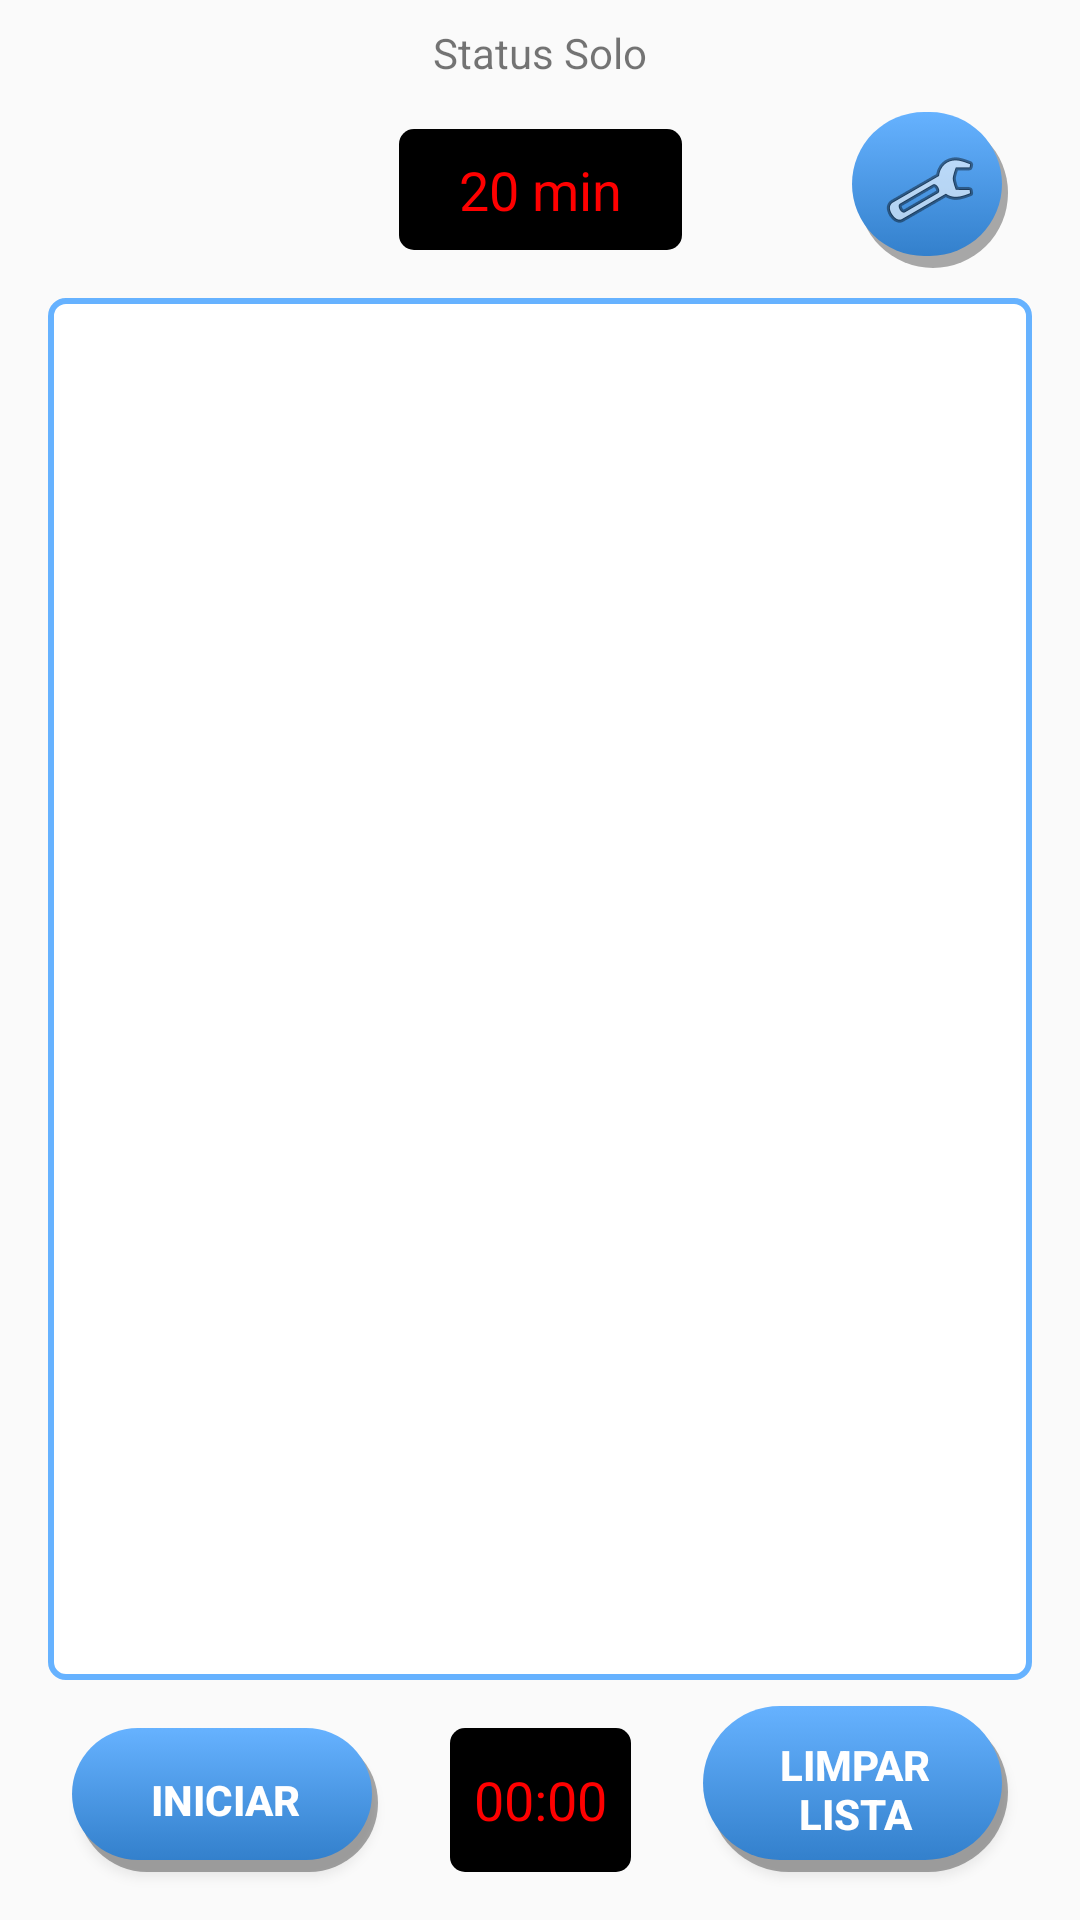

Screen size 1080w x 1920h. Icon name, then its center in pixels as [x,y]:
preferences: [930,190]
